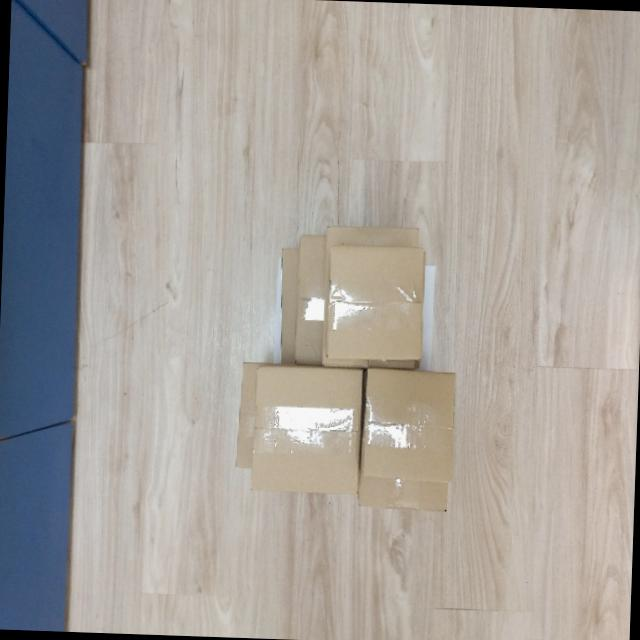box: (249, 359, 364, 497), (323, 242, 429, 362), (359, 364, 461, 486)
